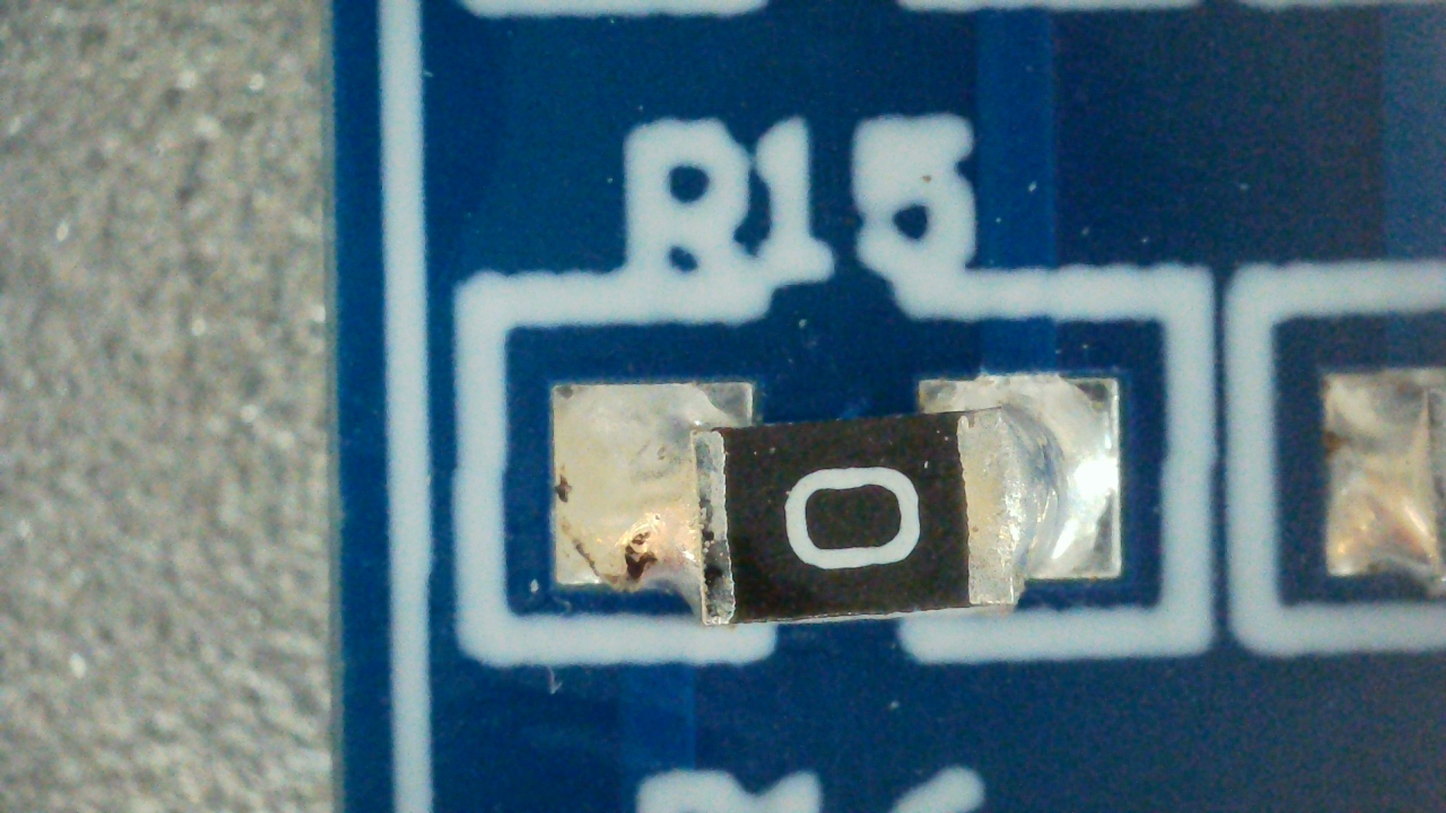NG: (554, 367, 1119, 626)
